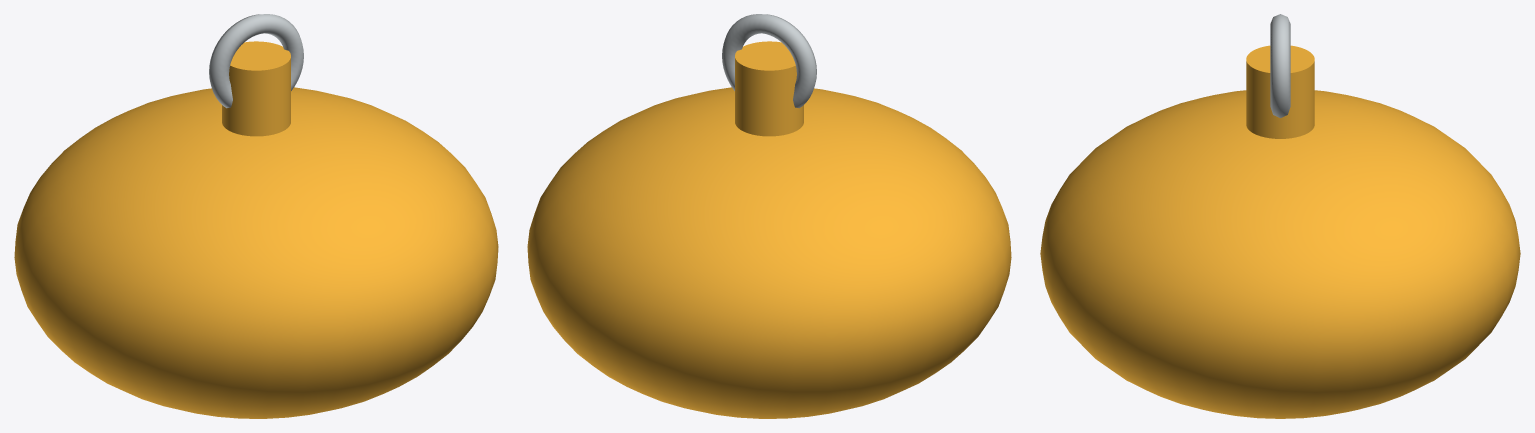
Rendered from rowing-boathouse-and-regatta-course-lane-marker-buoy-ef919aa7__32171.glb.
3 renders of one model, left to right at view 1: azimuth 30°, elevation 25°; view 2: azimuth 150°, elevation 25°; view 3: azimuth 270°, elevation 25°, orthographic.
Parts seen in each view (by area): view 1: lane-marker-buoy; view 2: lane-marker-buoy; view 3: lane-marker-buoy.
Part boxes in pixels (x1=…): lane-marker-buoy: x1=14, y1=14, x2=498, y2=418; lane-marker-buoy: x1=527, y1=14, x2=1011, y2=418; lane-marker-buoy: x1=1040, y1=14, x2=1520, y2=418.
Bounding box in the file's own units: 0.28 × 0.235 × 0.28.
